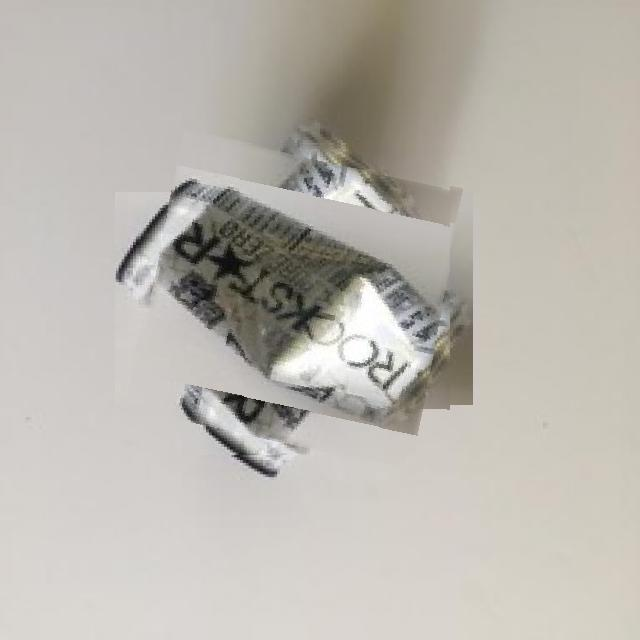recyclable: (137, 142, 450, 455)
